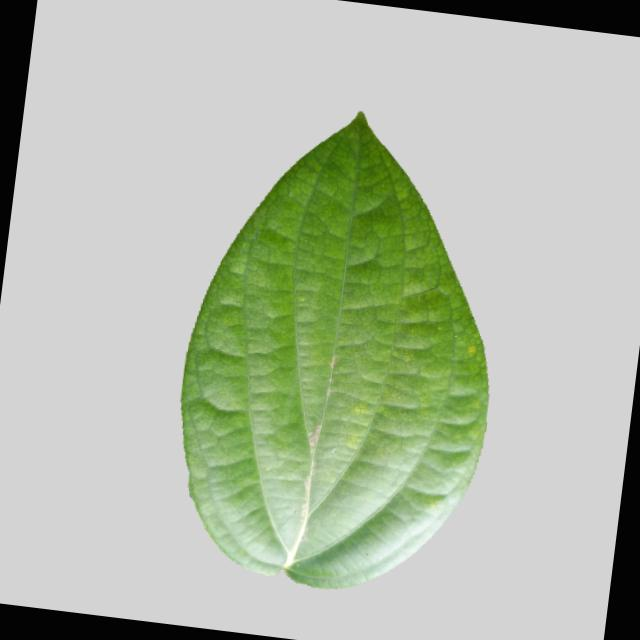healthy: (158, 87, 528, 606)
